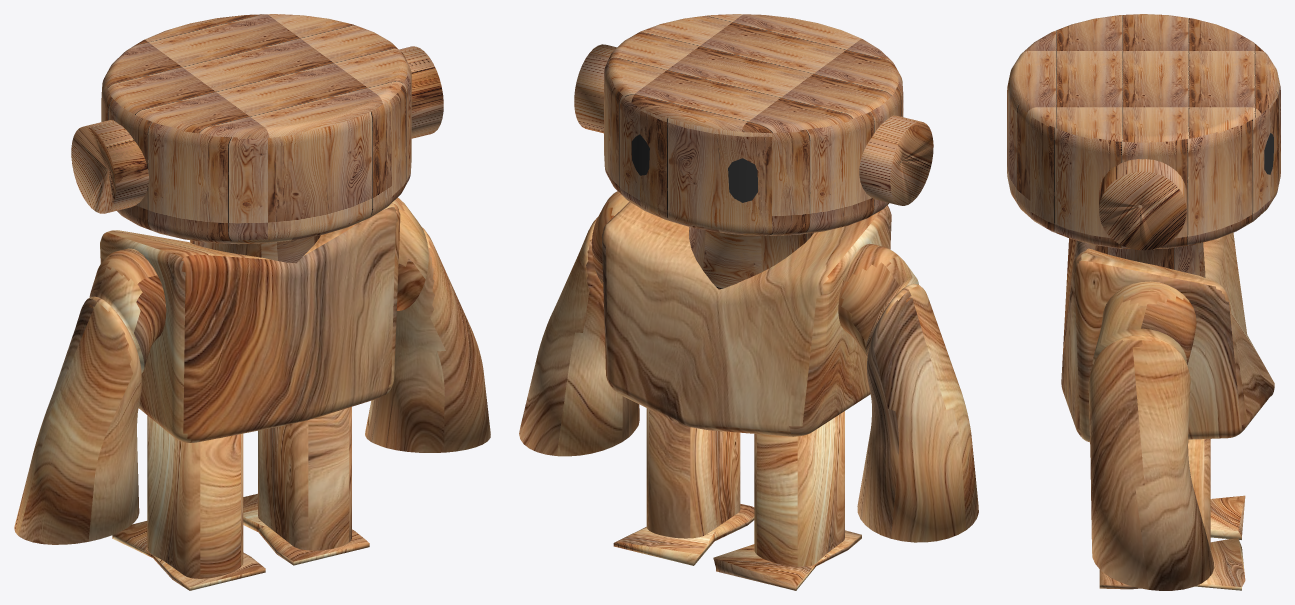
Rendered from BOTDerevo.fbx.
The picture shows the model from 3 angles, left to right: view 1: azimuth 30°, elevation 25°; view 2: azimuth 150°, elevation 25°; view 3: azimuth 270°, elevation 25°; orthographic projection. The views are drawn at different scales.
Parts seen in each view (by area): view 1: face, body, hand, leg, ear, foot.001; view 2: face, body, hand, leg, ear, foot.001; view 3: face, hand, body, ear, foot.001, leg.
Part boxes in pixels (x1,y1,x2,y2): face: (101,14,411,263); body: (100,203,400,442); hand: (14,197,490,544); leg: (147,407,351,578); ear: (71,46,443,213); foot.001: (112,493,369,590); face: (604,14,903,289); body: (601,202,891,436); hand: (519,191,978,542); leg: (646,408,844,566); ear: (574,44,933,205); foot.001: (613,504,861,590); face: (1007,14,1280,277); hand: (1088,281,1214,590); body: (1061,232,1274,442); ear: (1099,159,1186,250); foot.001: (1099,495,1245,590); leg: (1110,439,1210,577).
Size of the model in its own units: 586 by 586 by 309.
